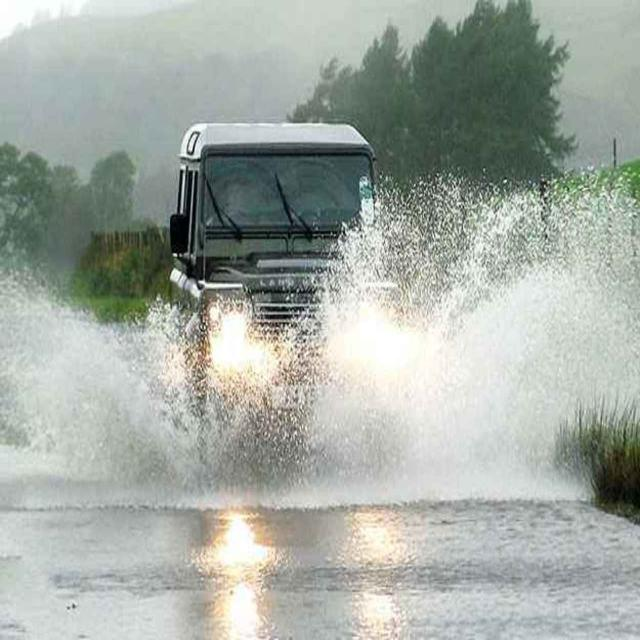car: (173, 125, 403, 461)
